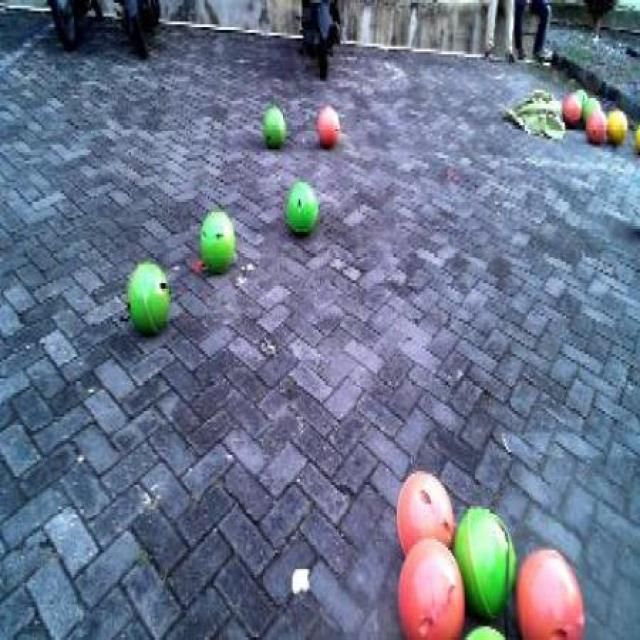buoy: (454, 501, 519, 622), (514, 534, 590, 634), (392, 534, 467, 634), (393, 470, 462, 560), (122, 258, 171, 334), (199, 206, 238, 276), (284, 176, 319, 235), (312, 100, 341, 156), (262, 96, 288, 154)
